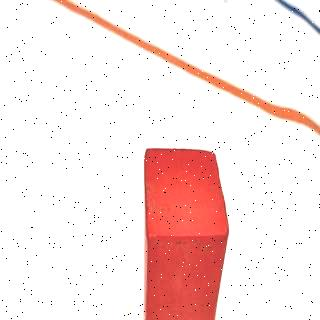redbox: (143, 146, 231, 320)
